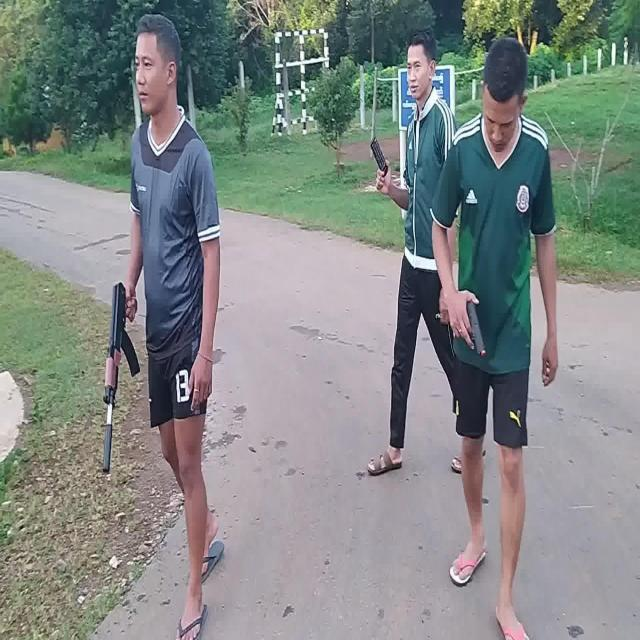gun: (103, 283, 140, 471), (466, 302, 485, 356)
